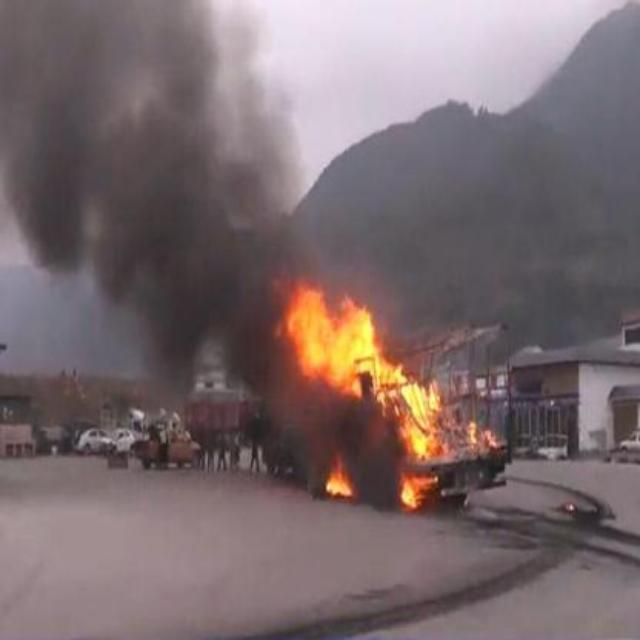Fire: (284, 278, 462, 520)
Smoke: (0, 5, 272, 401)
